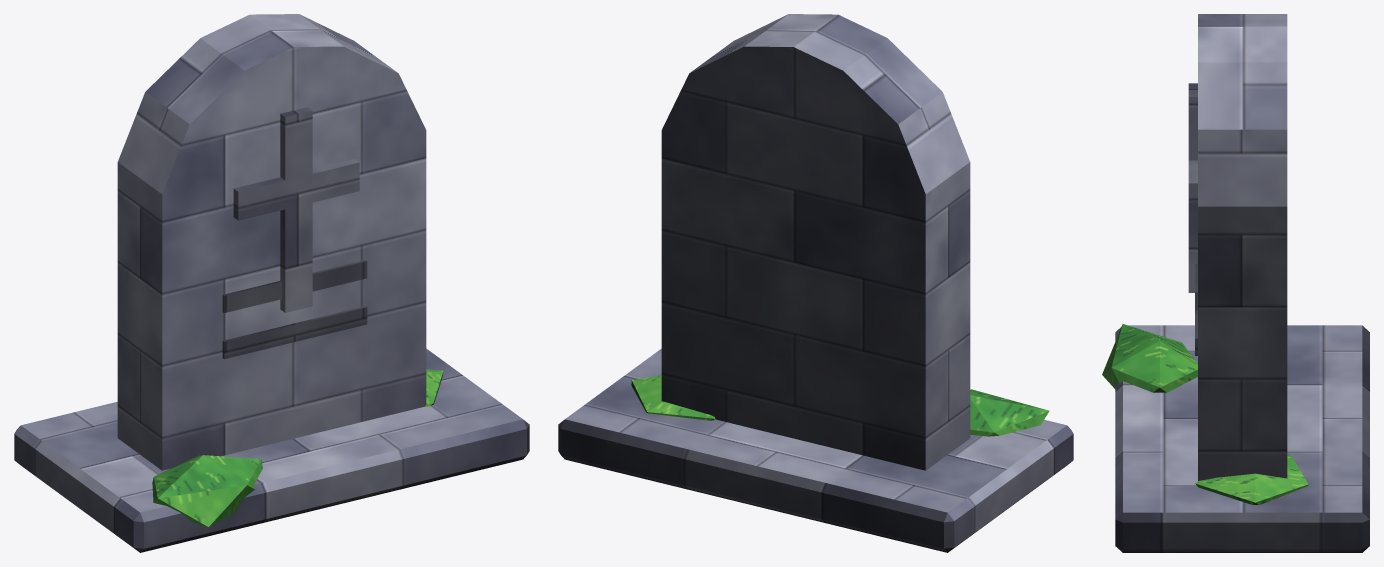
File: grave_a.glb
3 views of the same model, side by side, from view 1: azimuth 30°, elevation 25°; view 2: azimuth 150°, elevation 25°; view 3: azimuth 270°, elevation 25° (orthographic).
Visible parts, largest first — view 1: grave_a; view 2: grave_a; view 3: grave_a.
Part boxes in pixels (x1,y1,x2,y2): grave_a: (14, 14, 529, 552); grave_a: (558, 14, 1073, 552); grave_a: (1102, 14, 1369, 552).
Size of the model in its own units: 0.72 by 0.752 by 0.421.
3 materials, 3 textured.
